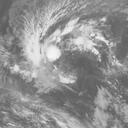cyclone: (32, 41, 60, 67)
